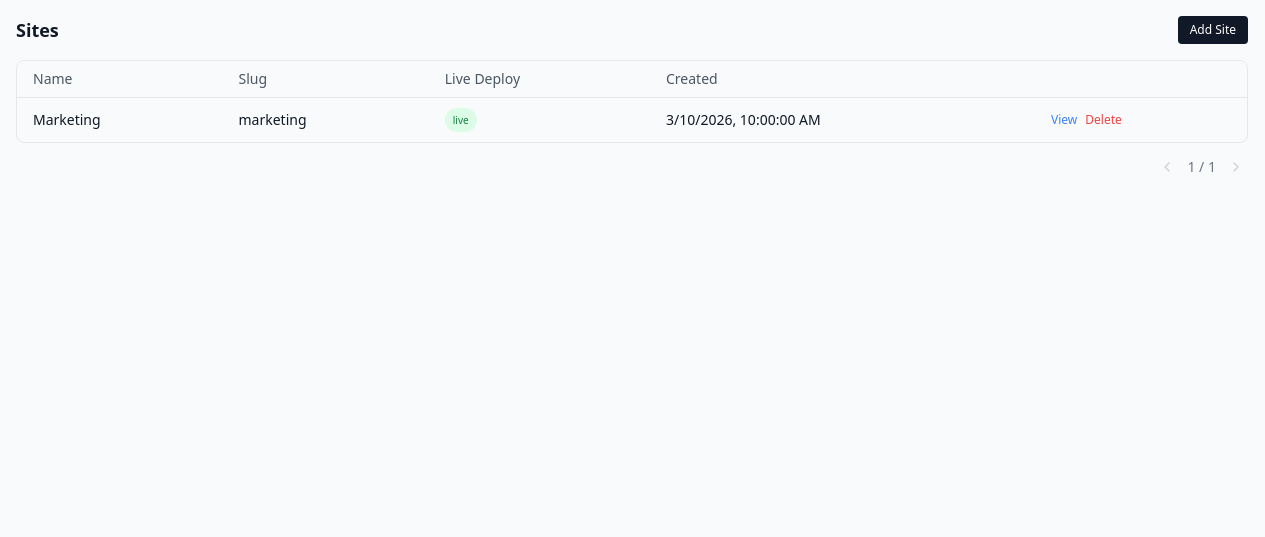
Test: Sites › detail view renders site settings and deploy table
Expected: the text "Marketing" is shown, [17, 98, 222, 142]
Click the button with aria-label "view marketing": [1064, 120] box [1051, 112, 1077, 128]
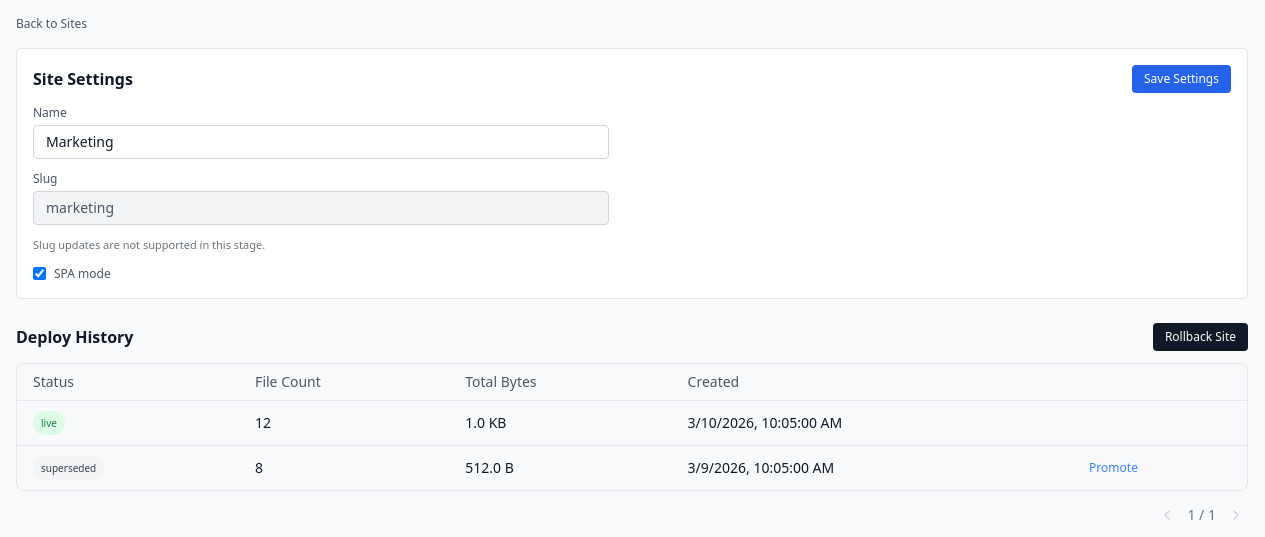
Expected: the heading "Site Settings" is shown, [33, 67, 133, 91]
Expected: the field showing "Marketing" is shown, [33, 125, 609, 159]
Expected: the field showing "marketing" is shown, [33, 191, 609, 225]
